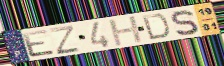4: (89, 20, 112, 49)
D: (140, 13, 171, 41)
E: (20, 28, 57, 59)
H: (107, 14, 145, 48)
S: (169, 9, 200, 37)
Z: (48, 23, 82, 56)
